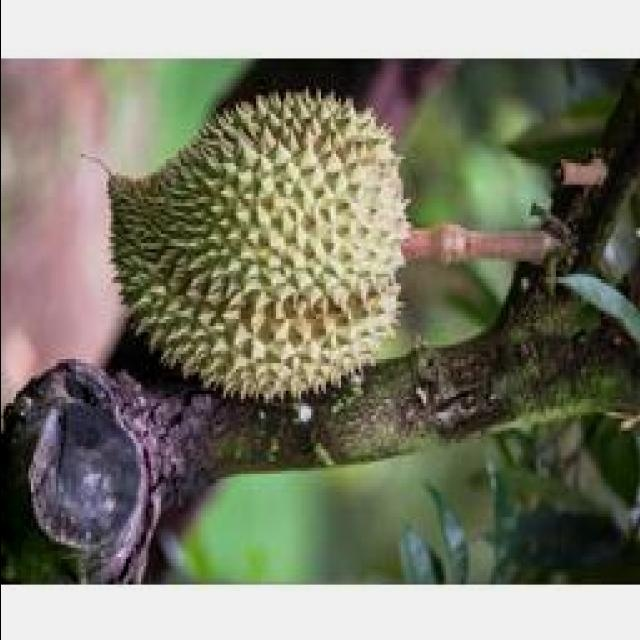agrume: (95, 77, 417, 440)
